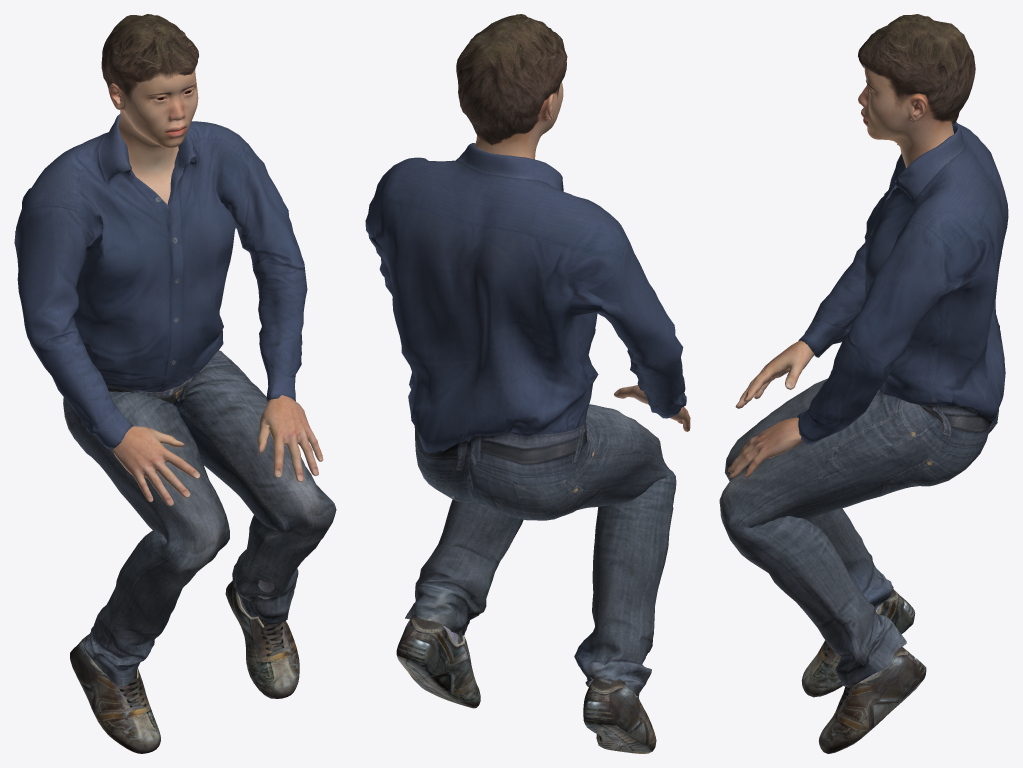
Rendered from fictional_student_mpfb.glb.
3 renders of one model, left to right at view 1: azimuth 30°, elevation 25°; view 2: azimuth 150°, elevation 25°; view 3: azimuth 270°, elevation 25°, orthographic. The views are drawn at different scales.
Parts seen in each view (by area): view 1: Fictional student - editable base.male_casualsuit01 - pose b, Fictional student - editable base - pose baked, Fictional student - editable base.shoes02 - pose baked, Fictional student - editable base.short02 - pose baked; view 2: Fictional student - editable base.male_casualsuit01 - pose b, Fictional student - editable base.short02 - pose baked, Fictional student - editable base.shoes02 - pose baked, Fictional student - editable base - pose baked; view 3: Fictional student - editable base.male_casualsuit01 - pose b, Fictional student - editable base - pose baked, Fictional student - editable base.short02 - pose baked, Fictional student - editable base.shoes02 - pose baked.
Part boxes in pixels (bbox=[...]): Fictional student - editable base.male_casualsuit01 - pose b: bbox=[14, 113, 336, 686]; Fictional student - editable base - pose baked: bbox=[108, 69, 323, 506]; Fictional student - editable base.shoes02 - pose baked: bbox=[70, 580, 299, 753]; Fictional student - editable base.short02 - pose baked: bbox=[101, 14, 198, 101]; Fictional student - editable base.male_casualsuit01 - pose b: bbox=[365, 143, 686, 697]; Fictional student - editable base.short02 - pose baked: bbox=[456, 14, 567, 145]; Fictional student - editable base.shoes02 - pose baked: bbox=[396, 616, 656, 753]; Fictional student - editable base - pose baked: bbox=[475, 82, 690, 431]; Fictional student - editable base.male_casualsuit01 - pose b: bbox=[719, 121, 1008, 687]; Fictional student - editable base - pose baked: bbox=[727, 66, 953, 478]; Fictional student - editable base.short02 - pose baked: bbox=[858, 14, 975, 124]; Fictional student - editable base.shoes02 - pose baked: bbox=[801, 588, 926, 753].
Bounding box in the file's own units: 0.5737 × 1.39 × 0.5204.
Materials: 6 (6 with a texture image).
